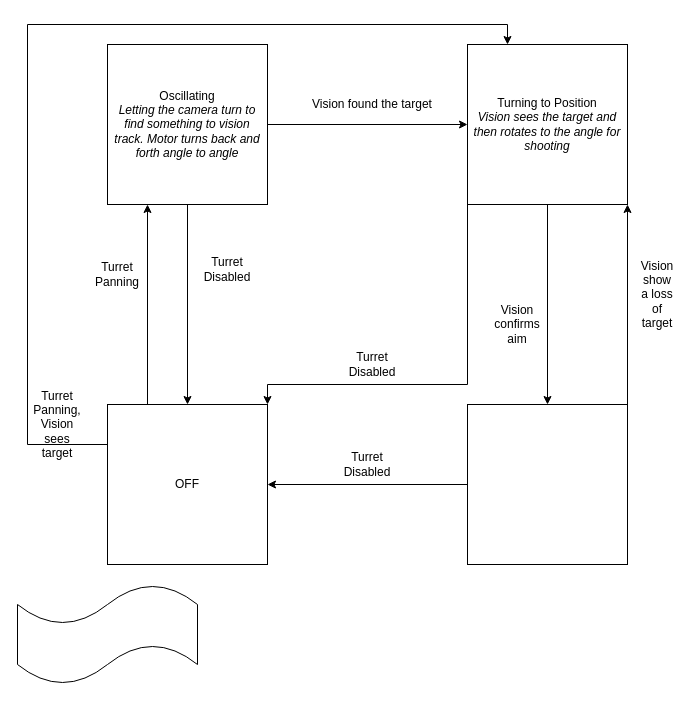
Image size: 695x702. Some labels were removed from this diagram. Each missing label, with the centre of its shape:
"Position Lock Turret has acquired its target and is holding position to fire" belongs at (x=547, y=484).
"Will we shoot while driving?" belongs at (x=107, y=634).
